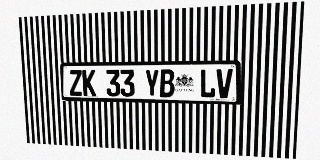3: (120, 69, 135, 97), (106, 70, 120, 97)
B: (160, 69, 174, 97)
K: (82, 70, 96, 96)
L: (200, 69, 216, 98)
V: (216, 69, 233, 98)
Y: (144, 69, 159, 97)
Z: (69, 70, 83, 96)
